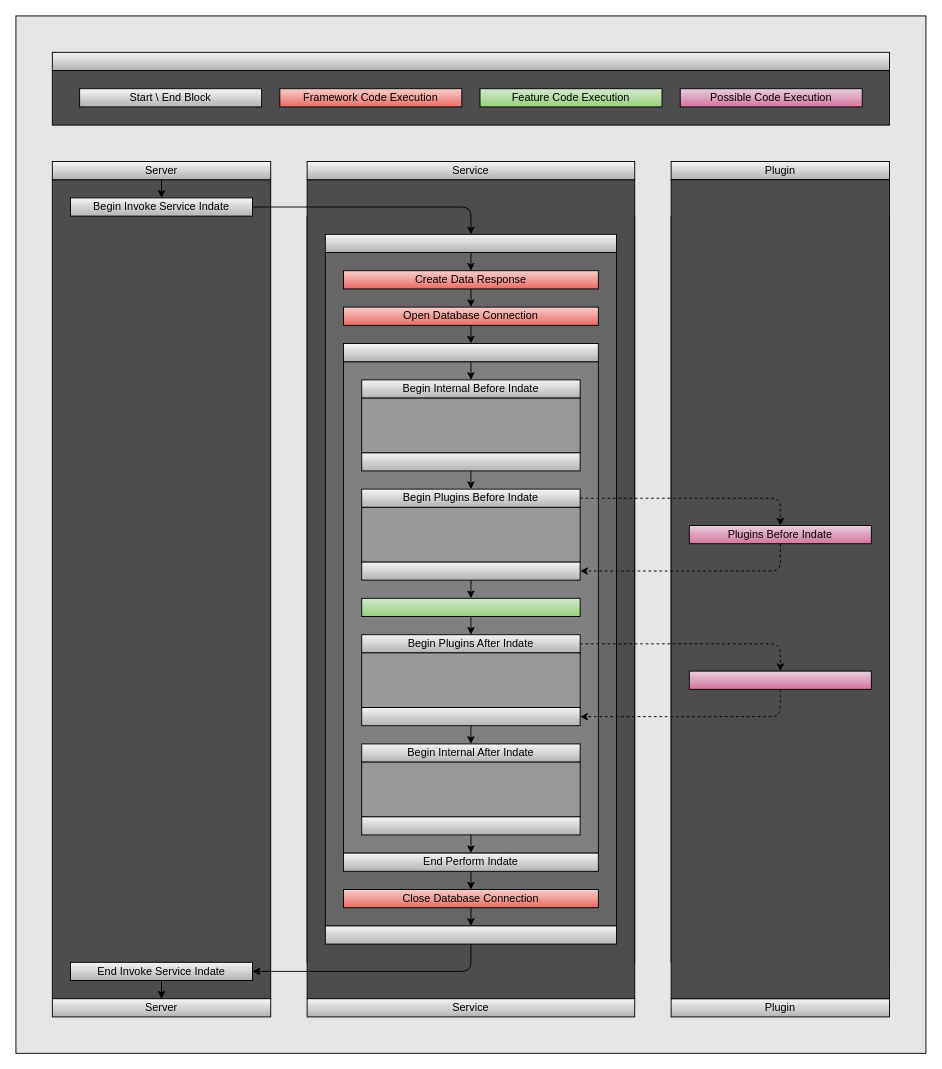
This 942x1069 diagram has some shape labels left out. Here are the shapes that lost their labels. From the top down, the centre of each, then its label:
the point at 470,61: Legend
the point at 470,243: Begin Indate
the point at 470,352: Begin Perform Indate
the point at 470,461: End Internal Before Indate
the point at 470,570: End Plugins Before Indate
the point at 470,607: On Indate
the point at 779,679: Plugins After Indate
the point at 470,716: End Plugins After Indate
the point at 470,825: End Internal After Indate
the point at 470,934: End Indate
